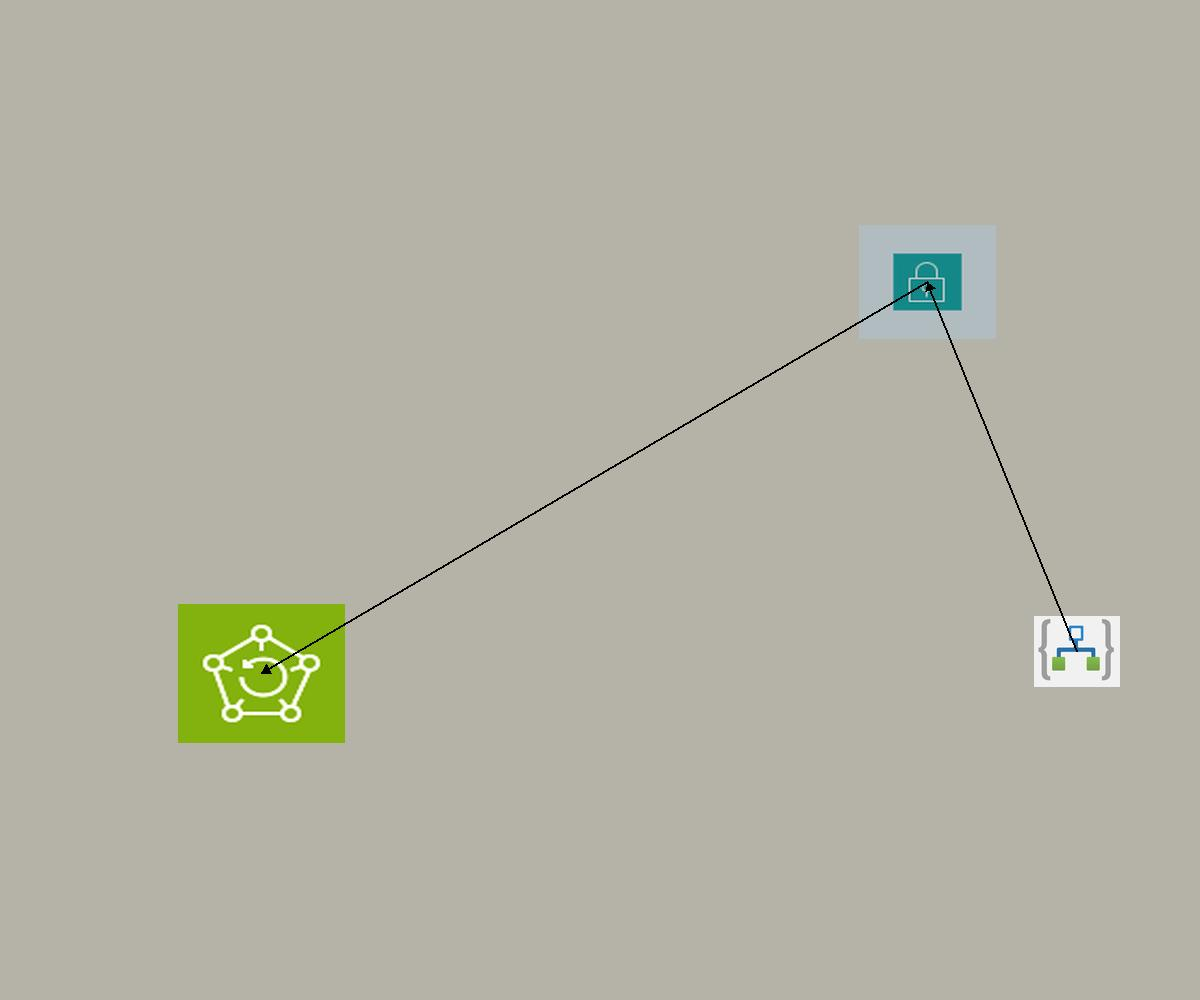AWS-Backup: (178, 604, 345, 743)
AWS-Private-subnet: (859, 225, 996, 339)
Azure_integration-204-Logic-Apps: (1034, 616, 1120, 687)
